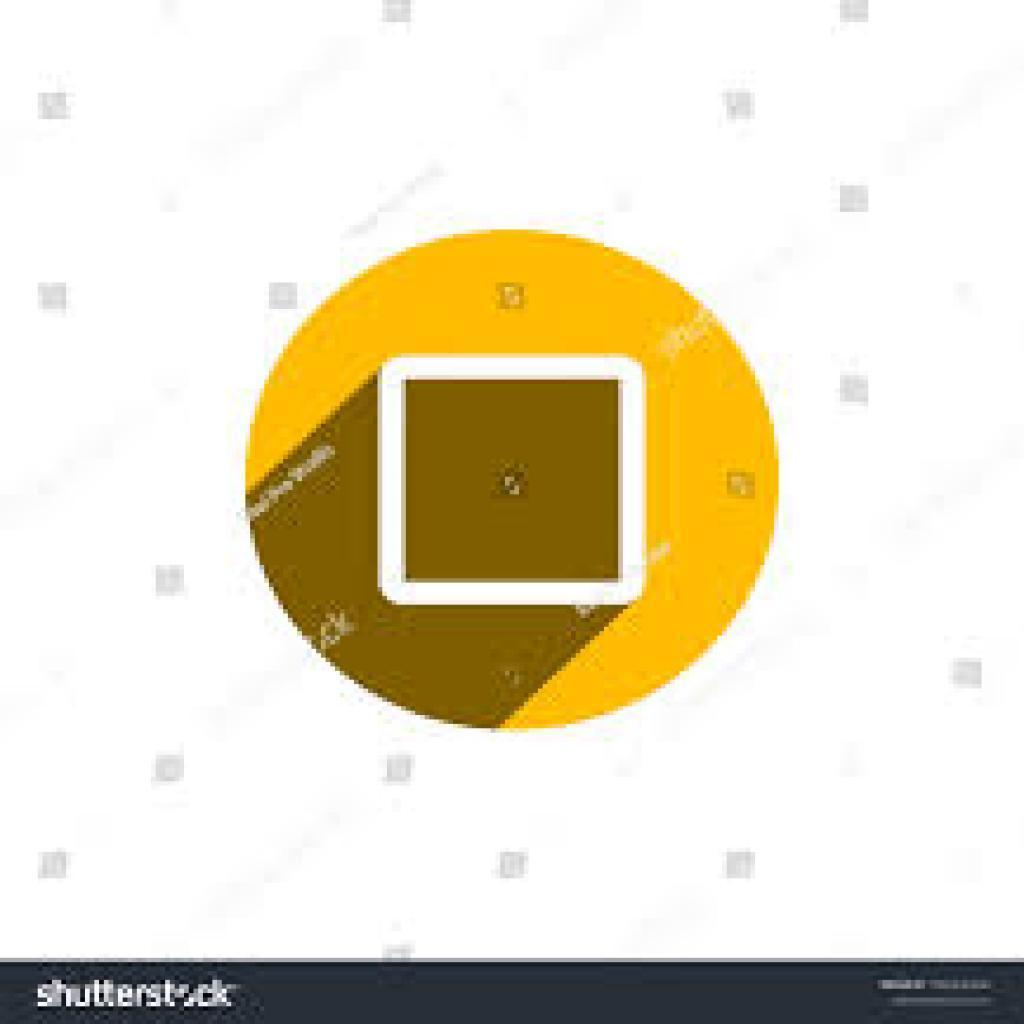checkbox: (383, 359, 638, 597)
